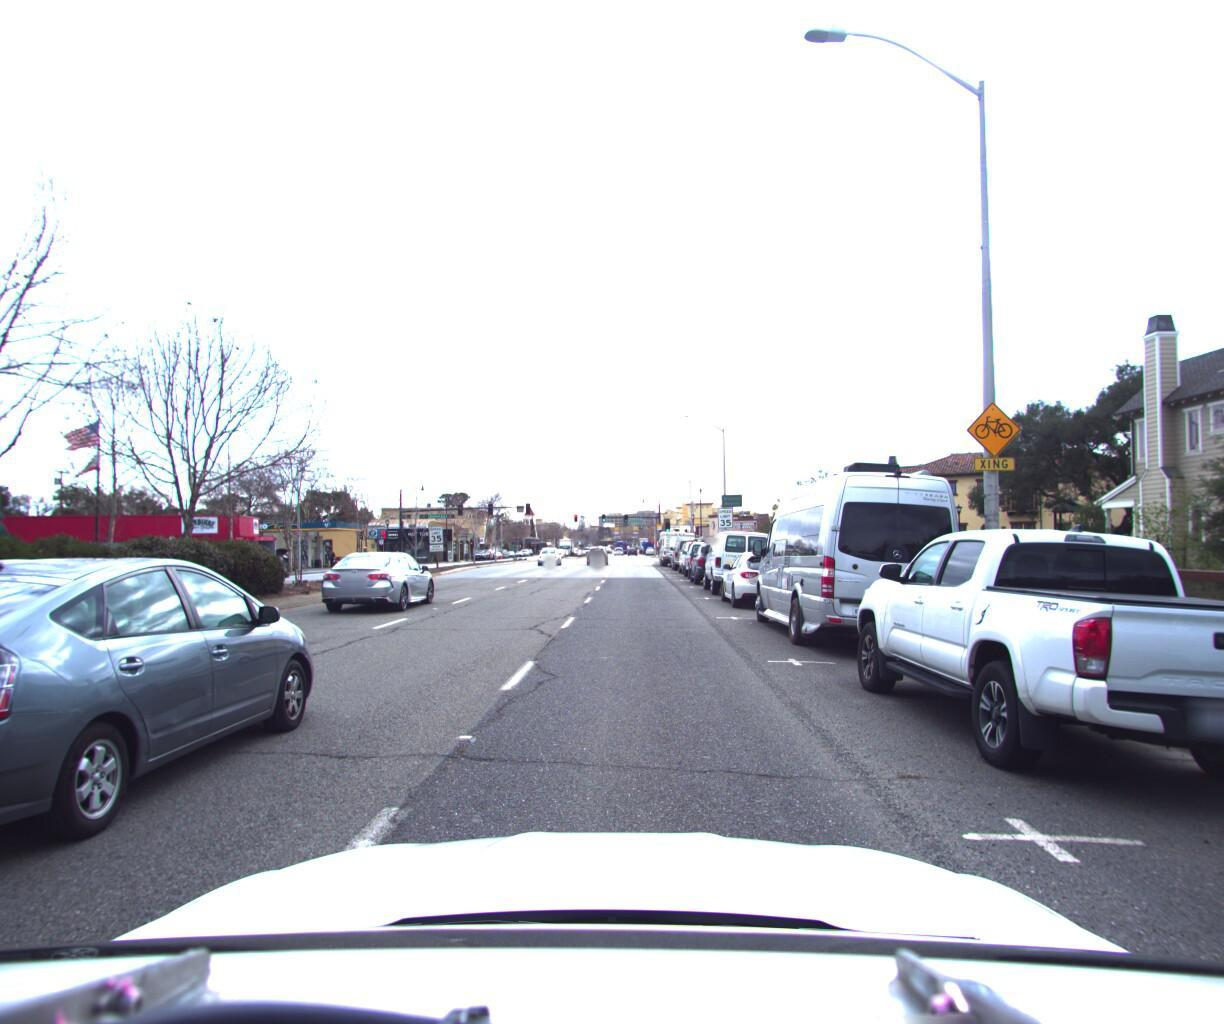car: (844, 523, 1224, 837), (0, 542, 334, 898), (747, 462, 978, 668), (318, 545, 442, 613), (1214, 257, 1224, 1024), (716, 543, 812, 607), (702, 524, 783, 594), (689, 533, 744, 580), (683, 532, 732, 574), (677, 532, 716, 568), (671, 527, 706, 564), (535, 538, 560, 559), (584, 539, 609, 559)
other_vehicle: (656, 520, 695, 560)
